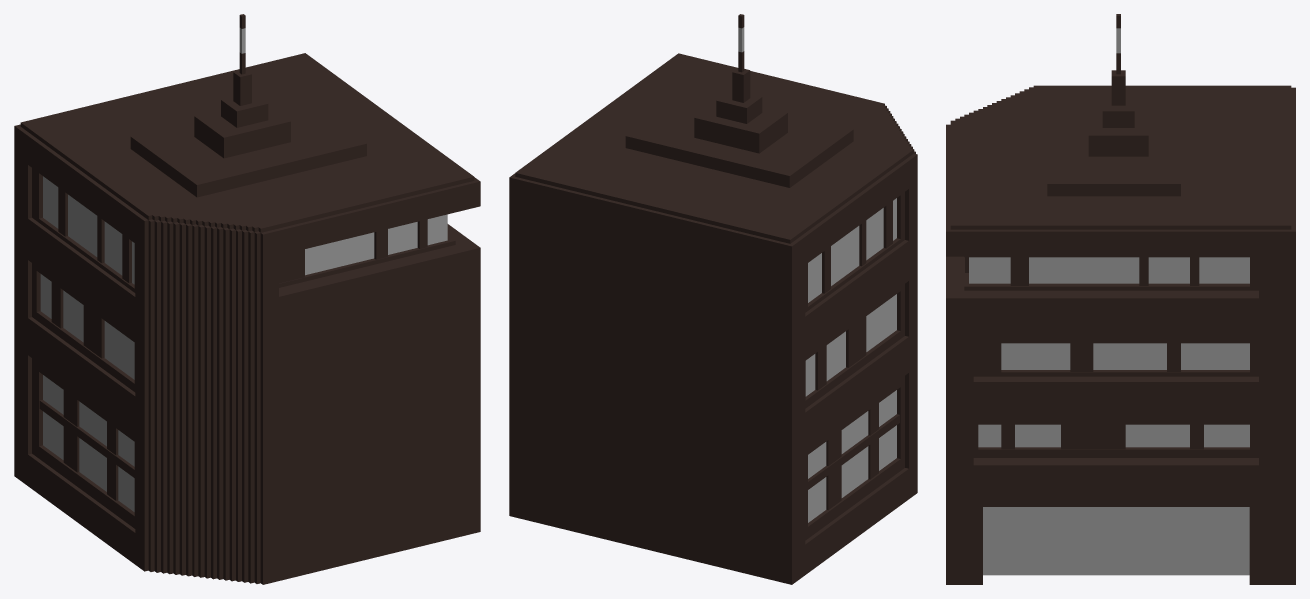
Rendered from Building_Mesh_005.fbx.
The picture shows the model from 3 angles, left to right: view 1: azimuth 30°, elevation 25°; view 2: azimuth 150°, elevation 25°; view 3: azimuth 270°, elevation 25°; orthographic projection. The views are drawn at different scales.
Visible parts, largest first — view 1: Building_005; view 2: Building_005; view 3: Building_005.
Boxes of the visible parts, bbox=[...] form: Building_005: bbox=[14, 14, 480, 584]; Building_005: bbox=[509, 14, 917, 584]; Building_005: bbox=[946, 14, 1295, 584].
Size of the model in its own units: 7.4 by 11.87 by 7.6.
